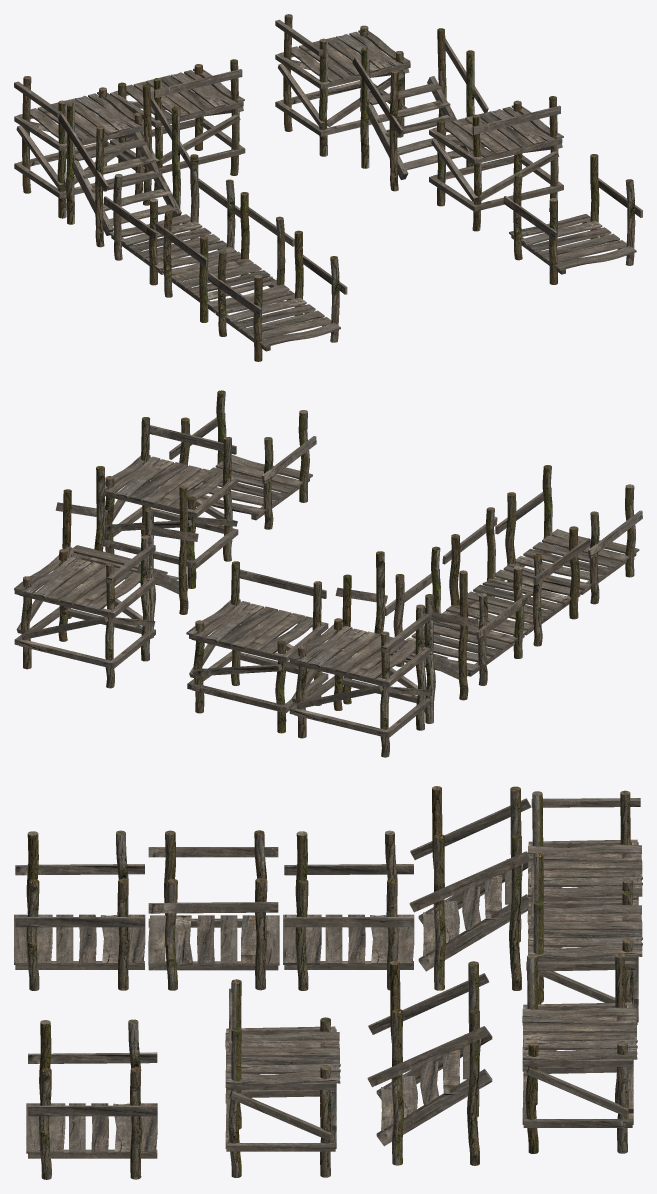
Rendered from wooden_walkway_lowpoly.glb.
3 renders of one model, top to bottom at view 1: azimuth 30°, elevation 25°; view 2: azimuth 150°, elevation 25°; view 3: azimuth 270°, elevation 25°, orthographic. The views are drawn at different scales.
Parts seen in each view (by area): view 1: Cylinder.297, Cylinder.295, Cylinder.279, Cylinder.281, Cylinder.304, Cylinder.278, Cylinder.284, Cube.465, Cube.508, Cylinder.300, Cylinder.286, Cylinder.280 (+61 smaller); view 2: Cylinder.279, Cylinder.295, Cylinder.281, Cylinder.285, Cylinder.305, Cylinder.300, Cylinder.284, Cylinder.304, Cylinder.294, Cylinder.276, Cylinder.278, Cylinder.271 (+63 smaller); view 3: Cylinder.278, Cylinder.294, Cube.487, Cylinder.280, Cube.484, Cylinder.296, Cube.428, Cube.416, Cube.450, Cube.493, Cube.405, Cube.425 (+104 smaller).
Part boxes in pixels (left/top/right/bottom): Cylinder.297: left=360, top=47, right=369, bottom=168; Cylinder.295: left=389, top=70, right=398, bottom=191; Cylinder.279: left=95, top=125, right=104, bottom=247; Cylinder.281: left=66, top=103, right=75, bottom=224; Cylinder.304: left=318, top=38, right=327, bottom=156; Cylinder.278: left=172, top=106, right=180, bottom=226; Cylinder.284: left=57, top=100, right=66, bottom=218; Cube.465: left=154, top=69, right=242, bottom=97; Cube.508: left=472, top=105, right=560, bottom=134; Cylinder.300: left=472, top=114, right=481, bottom=231; Cylinder.286: left=230, top=59, right=239, bottom=175; Cylinder.280: left=143, top=84, right=152, bottom=205; Cylinder.279: left=458, top=570, right=468, bottom=700; Cylinder.295: left=178, top=485, right=188, bottom=614; Cylinder.281: left=424, top=594, right=435, bottom=723; Cylinder.285: left=380, top=631, right=389, bottom=757; Cylinder.305: left=105, top=562, right=114, bottom=688; Cylinder.300: left=222, top=437, right=232, bottom=561; Cylinder.284: left=415, top=604, right=426, bottom=730; Cylinder.304: left=140, top=535, right=151, bottom=661; Cylinder.294: left=94, top=466, right=105, bottom=551; Cylinder.276: left=513, top=566, right=524, bottom=658; Cylinder.278: left=374, top=551, right=385, bottom=678; Cylinder.271: left=569, top=526, right=579, bottom=619; Cylinder.278: left=433, top=834, right=445, bottom=990; Cylinder.294: left=391, top=1009, right=403, bottom=1165; Cube.487: left=376, top=1069, right=492, bottom=1146; Cylinder.280: left=509, top=834, right=521, bottom=990; Cube.484: left=28, top=1105, right=157, bottom=1116; Cylinder.296: left=467, top=1009, right=479, bottom=1165; Cube.428: left=418, top=894, right=528, bottom=971; Cube.416: left=148, top=902, right=278, bottom=913; Cube.450: left=409, top=851, right=530, bottom=912; Cube.493: left=367, top=1026, right=488, bottom=1087; Cube.405: left=15, top=917, right=144, bottom=927; Cube.425: left=284, top=917, right=413, bottom=927.
Size of the model in its own units: 8.69 by 2.5 by 9.38.
2 materials, 2 textured.
